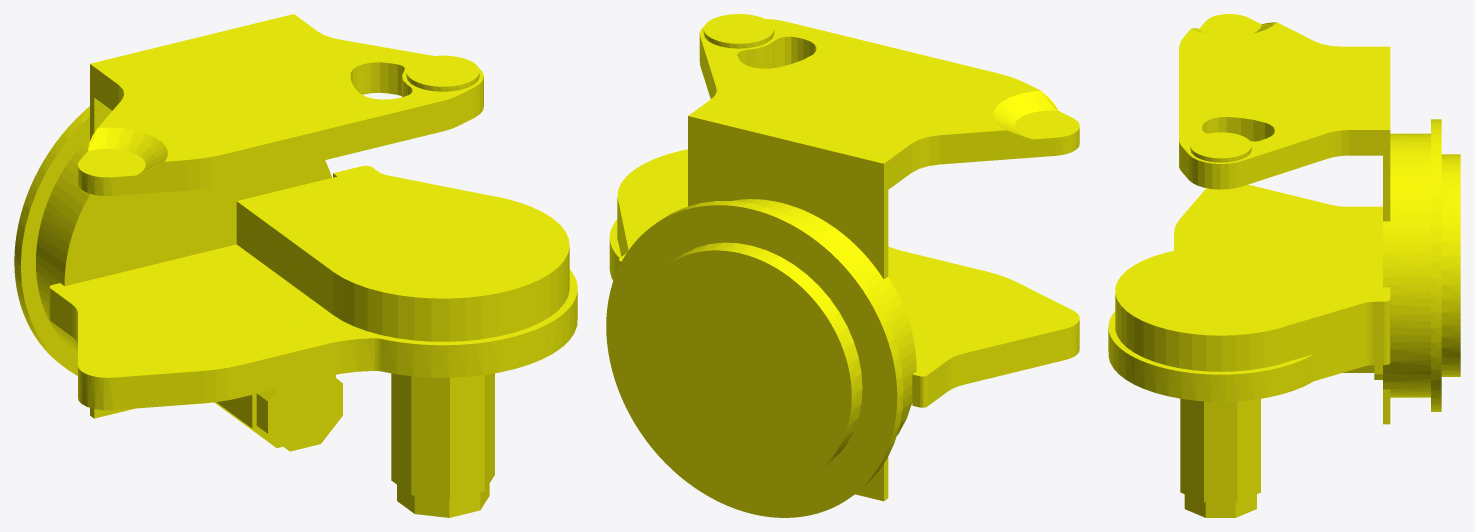
3 renders of one model, left to right at view 1: azimuth 30°, elevation 25°; view 2: azimuth 150°, elevation 25°; view 3: azimuth 270°, elevation 25°, orthographic. The views are drawn at different scales.
Visible parts, largest first — view 1: node; view 2: node; view 3: node.
Boxes of the visible parts, x1,y1,x2,y2 form: node: (14, 14, 577, 517); node: (606, 14, 1079, 517); node: (1108, 14, 1460, 517).
Bounding box in the file's own units: 973 × 840 × 750.
